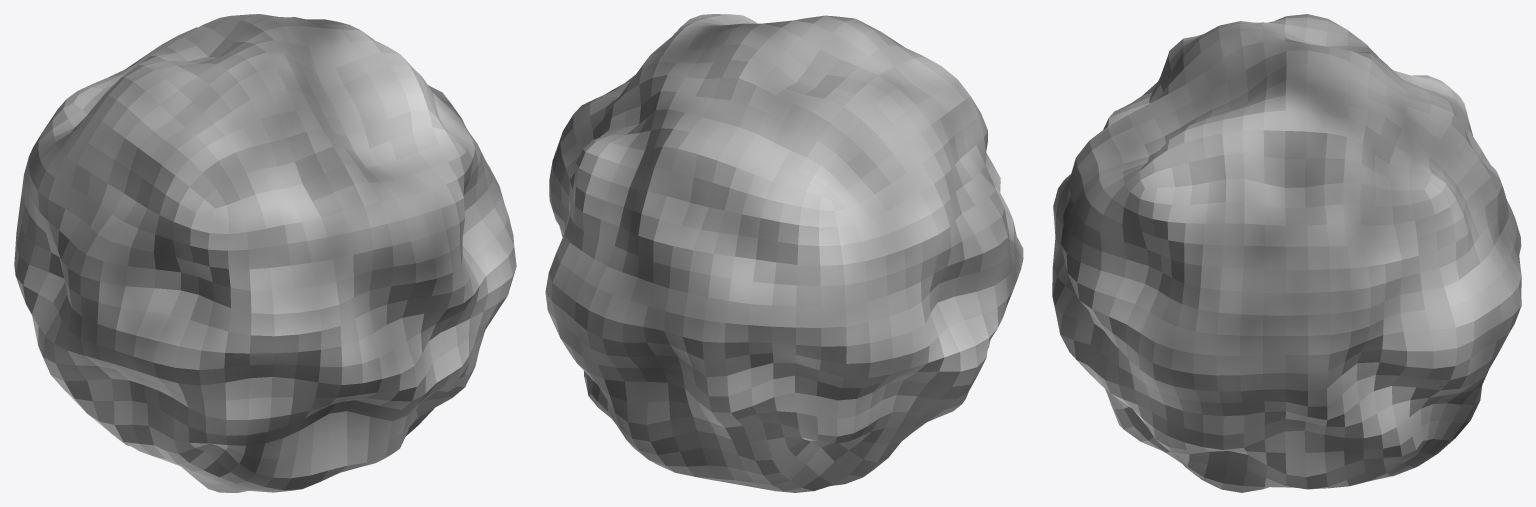
The model's file is round_asteroid_big.obj.
3 views of the same model, side by side, from view 1: azimuth 30°, elevation 25°; view 2: azimuth 150°, elevation 25°; view 3: azimuth 270°, elevation 25° (orthographic). The views are drawn at different scales.
Parts seen in each view (by area): view 1: Asteroid.003; view 2: Asteroid.003; view 3: Asteroid.003.
Boxes of the visible parts, left/top/right/bottom form: Asteroid.003: left=14, top=14, right=516, bottom=492; Asteroid.003: left=545, top=14, right=1023, bottom=492; Asteroid.003: left=1052, top=14, right=1521, bottom=492.
Size of the model in its own units: 3.47 by 3.45 by 3.42.
1 material, 1 textured.
